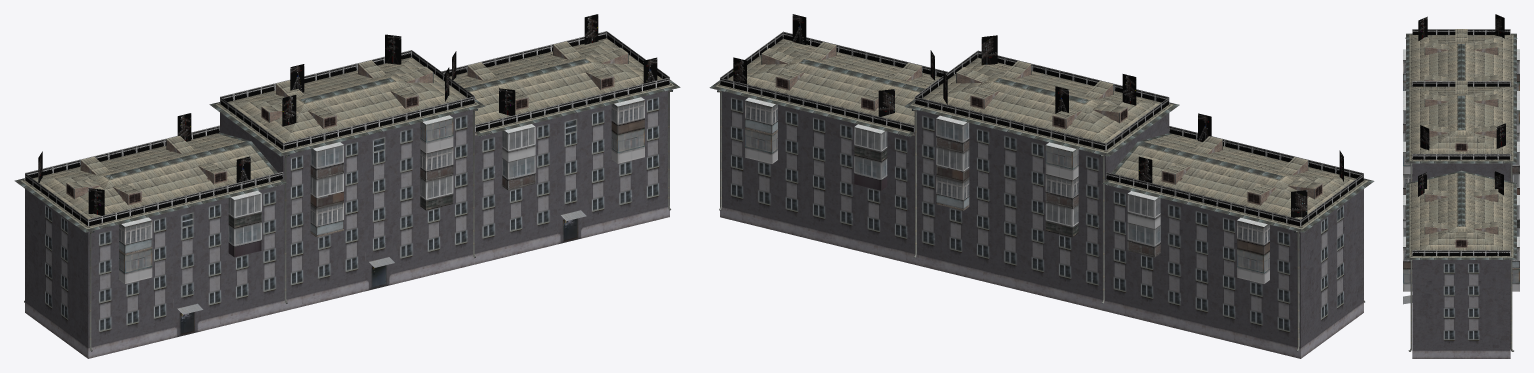
Rendered from rus_build_5et_05.fbx.
3 views of the same model, side by side, from view 1: azimuth 30°, elevation 25°; view 2: azimuth 150°, elevation 25°; view 3: azimuth 270°, elevation 25° (orthographic). The views are drawn at different scales.
Visible parts, largest first — view 1: Regroup13, rus_build_dec_01; view 2: Regroup13, rus_build_dec_01; view 3: Regroup13, rus_build_dec_01.
Boxes of the visible parts, <box> form: Regroup13: <box>14,38,680,358</box>; rus_build_dec_01: <box>25,14,669,226</box>; Regroup13: <box>709,39,1374,358</box>; rus_build_dec_01: <box>720,14,1363,226</box>; Regroup13: <box>1403,29,1519,358</box>; rus_build_dec_01: <box>1412,14,1510,255</box>.
Bounding box in the file's own units: 6090 × 1925 × 1330.
